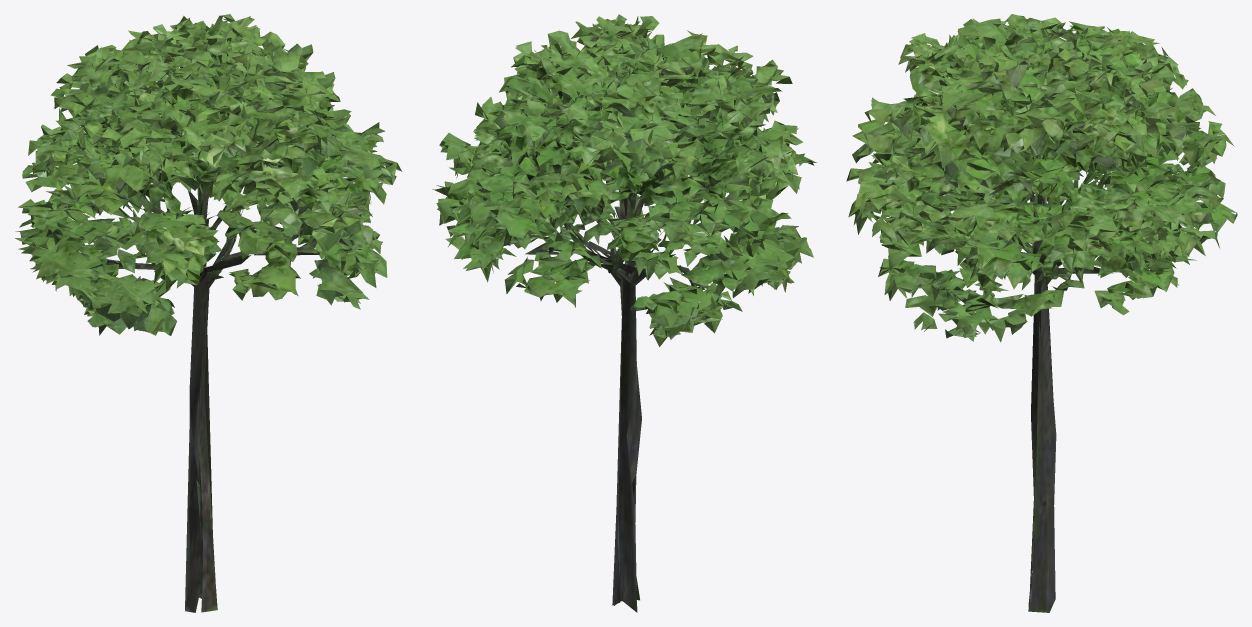
File: canopy_tall.glb
3 views of the same model, side by side, from view 1: azimuth 30°, elevation 25°; view 2: azimuth 150°, elevation 25°; view 3: azimuth 270°, elevation 25° (orthographic).
Visible parts, largest first — view 1: lod0; view 2: lod0; view 3: lod0.
Boxes of the visible parts, x1,y1,x2,y2 form: lod0: [15, 14, 402, 612]; lod0: [432, 14, 816, 612]; lod0: [846, 14, 1237, 612].
Size of what is drawn, in the model's own units: 7.58 by 12.1 by 7.44.
1 material, 1 textured.
